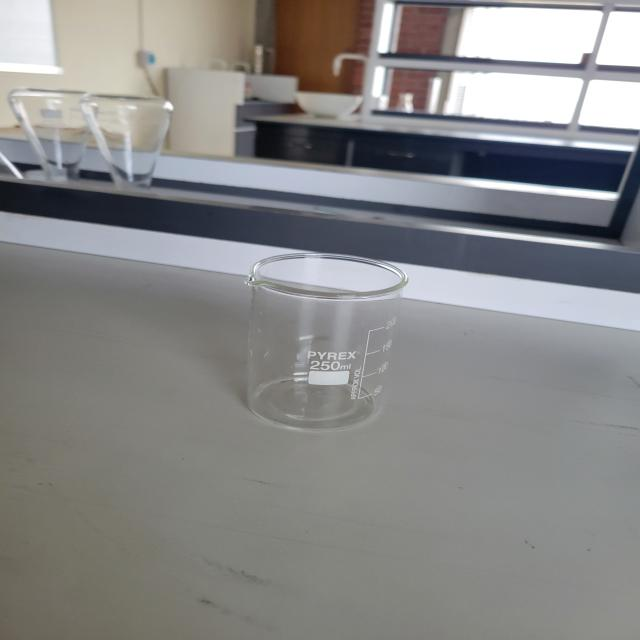Beaker: (202, 232, 444, 464)
